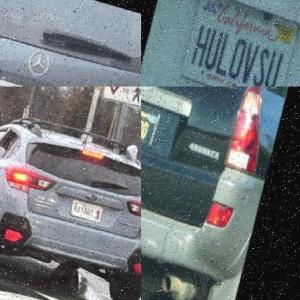Plate: (178, 0, 300, 86), (141, 94, 166, 149), (71, 196, 105, 219)
